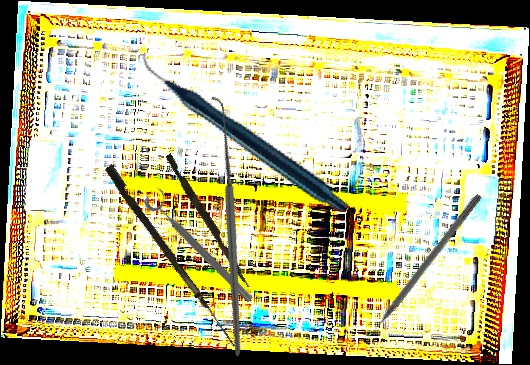Fixation Ring: (141, 185, 263, 306)
Handpiece: (141, 7, 350, 256)
Hook Surgical: (112, 96, 339, 357), (101, 164, 244, 347)
Pusher: (359, 191, 483, 347), (162, 153, 255, 289)
